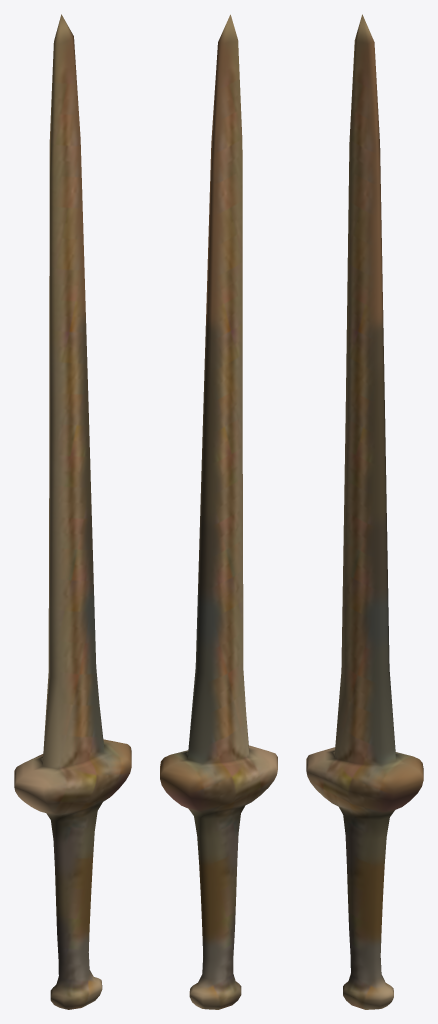
Rendered from swordSmooth.fbx.
The picture shows the model from 3 angles, left to right: view 1: azimuth 30°, elevation 25°; view 2: azimuth 210°, elevation 25°; view 3: azimuth 330°, elevation 25°; orthographic projection.
Visible parts, largest first — view 1: polySurface2; view 2: polySurface2; view 3: polySurface2.
Boxes of the visible parts, bbox=[...] form: polySurface2: bbox=[14, 14, 131, 1009]; polySurface2: bbox=[160, 14, 277, 1009]; polySurface2: bbox=[306, 14, 423, 1009].
Size of the model in its own units: 3.39 by 27.39 by 1.95.
1 material, 1 textured.
